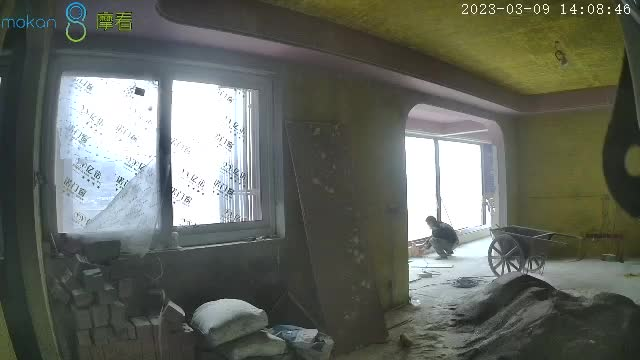people: (424, 216, 460, 260)
window: (54, 72, 262, 231), (405, 132, 491, 245)
